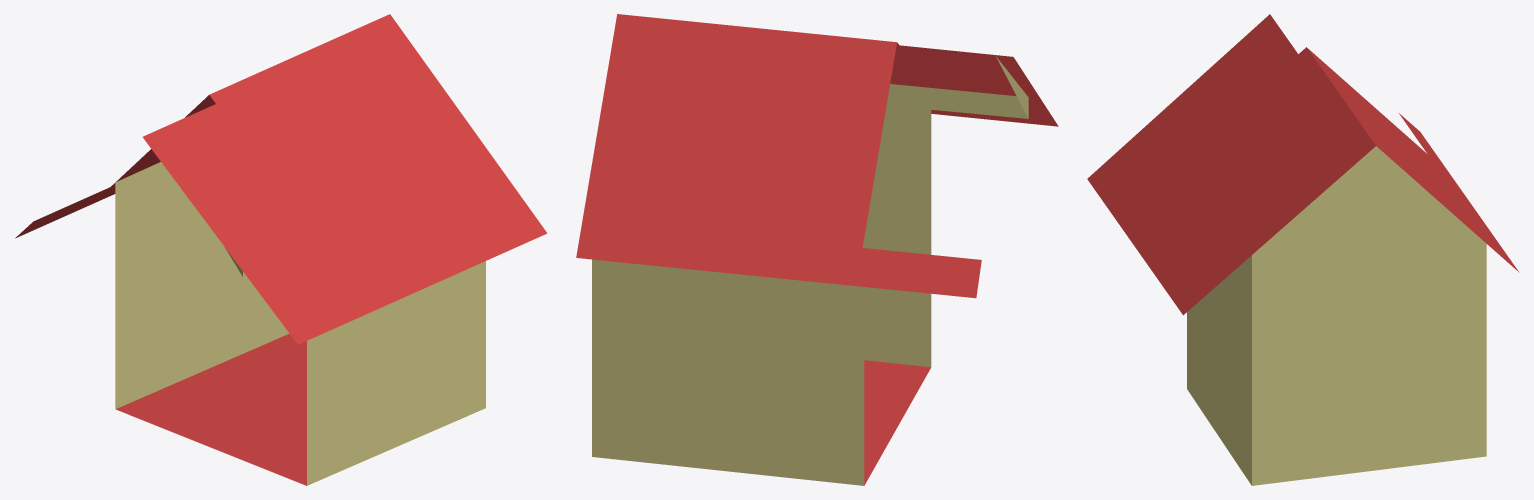
3 views of the same model, side by side, from view 1: azimuth 30°, elevation 25°; view 2: azimuth 150°, elevation 25°; view 3: azimuth 270°, elevation 25° (orthographic). The views are drawn at different scales.
Bounding box in the file's own units: 18.5 × 18.42 × 15.36.
